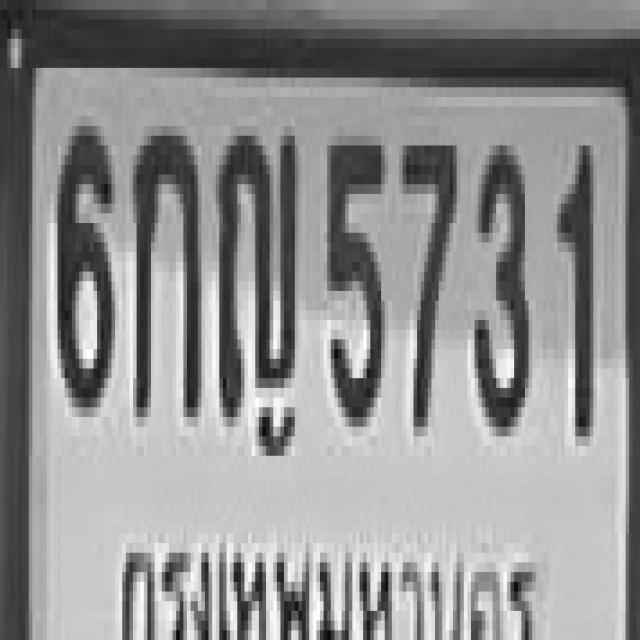1: (554, 136, 590, 427)
10GorGai: (129, 116, 198, 408)
22YorYing: (216, 121, 295, 412)
3: (471, 136, 529, 427)
5: (324, 126, 381, 417)
6: (54, 116, 111, 398)
7: (399, 136, 453, 427)
Bangkok: (115, 514, 543, 640)
